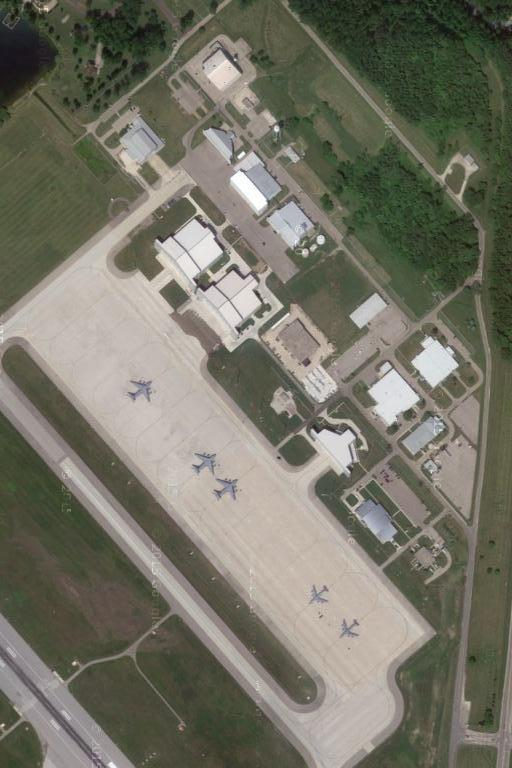C-17: (211, 474, 243, 506), (126, 377, 156, 405), (189, 451, 219, 478)
KC-135: (337, 616, 361, 644), (307, 582, 333, 607)
